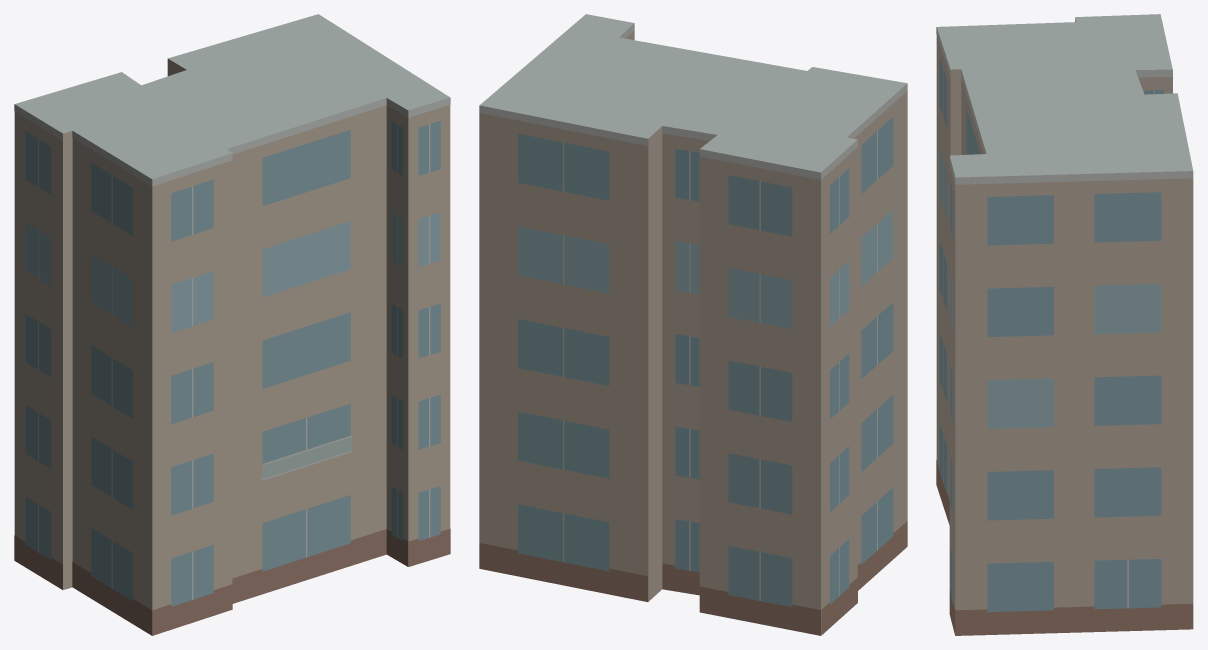
The model's file is survey-upis-32637194.glb.
3 renders of one model, left to right at view 1: azimuth 30°, elevation 25°; view 2: azimuth 150°, elevation 25°; view 3: azimuth 270°, elevation 25°, orthographic.
Parts seen in each view (by area): view 1: survey-upis-32637194.tmp; view 2: survey-upis-32637194.tmp; view 3: survey-upis-32637194.tmp.
Boxes of the visible parts, x1,y1,x2,y2 form: survey-upis-32637194.tmp: (14, 14, 450, 635); survey-upis-32637194.tmp: (479, 14, 907, 635); survey-upis-32637194.tmp: (936, 14, 1193, 635).
Bounding box in the file's own units: 11.75 × 15.35 × 7.8.
